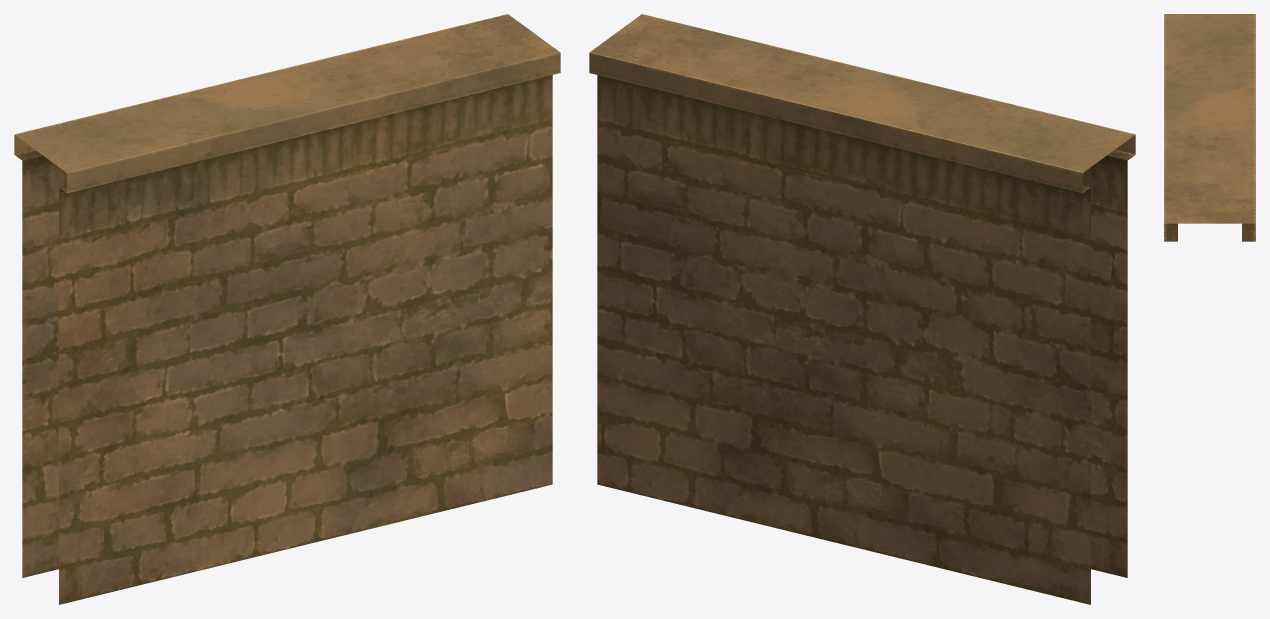
Rendered from wall_02.fbx.
The picture shows the model from 3 angles, left to right: view 1: azimuth 30°, elevation 25°; view 2: azimuth 150°, elevation 25°; view 3: azimuth 270°, elevation 25°; orthographic projection. The views are drawn at different scales.
Visible parts, largest first — view 1: wall_02; view 2: wall_02; view 3: wall_02.
Part boxes in pixels (x1,y1,x2,y2): wall_02: [14, 14, 560, 604]; wall_02: [589, 14, 1135, 604]; wall_02: [1164, 14, 1255, 241].
Size of the model in its own units: 300 by 254 by 55.56.
